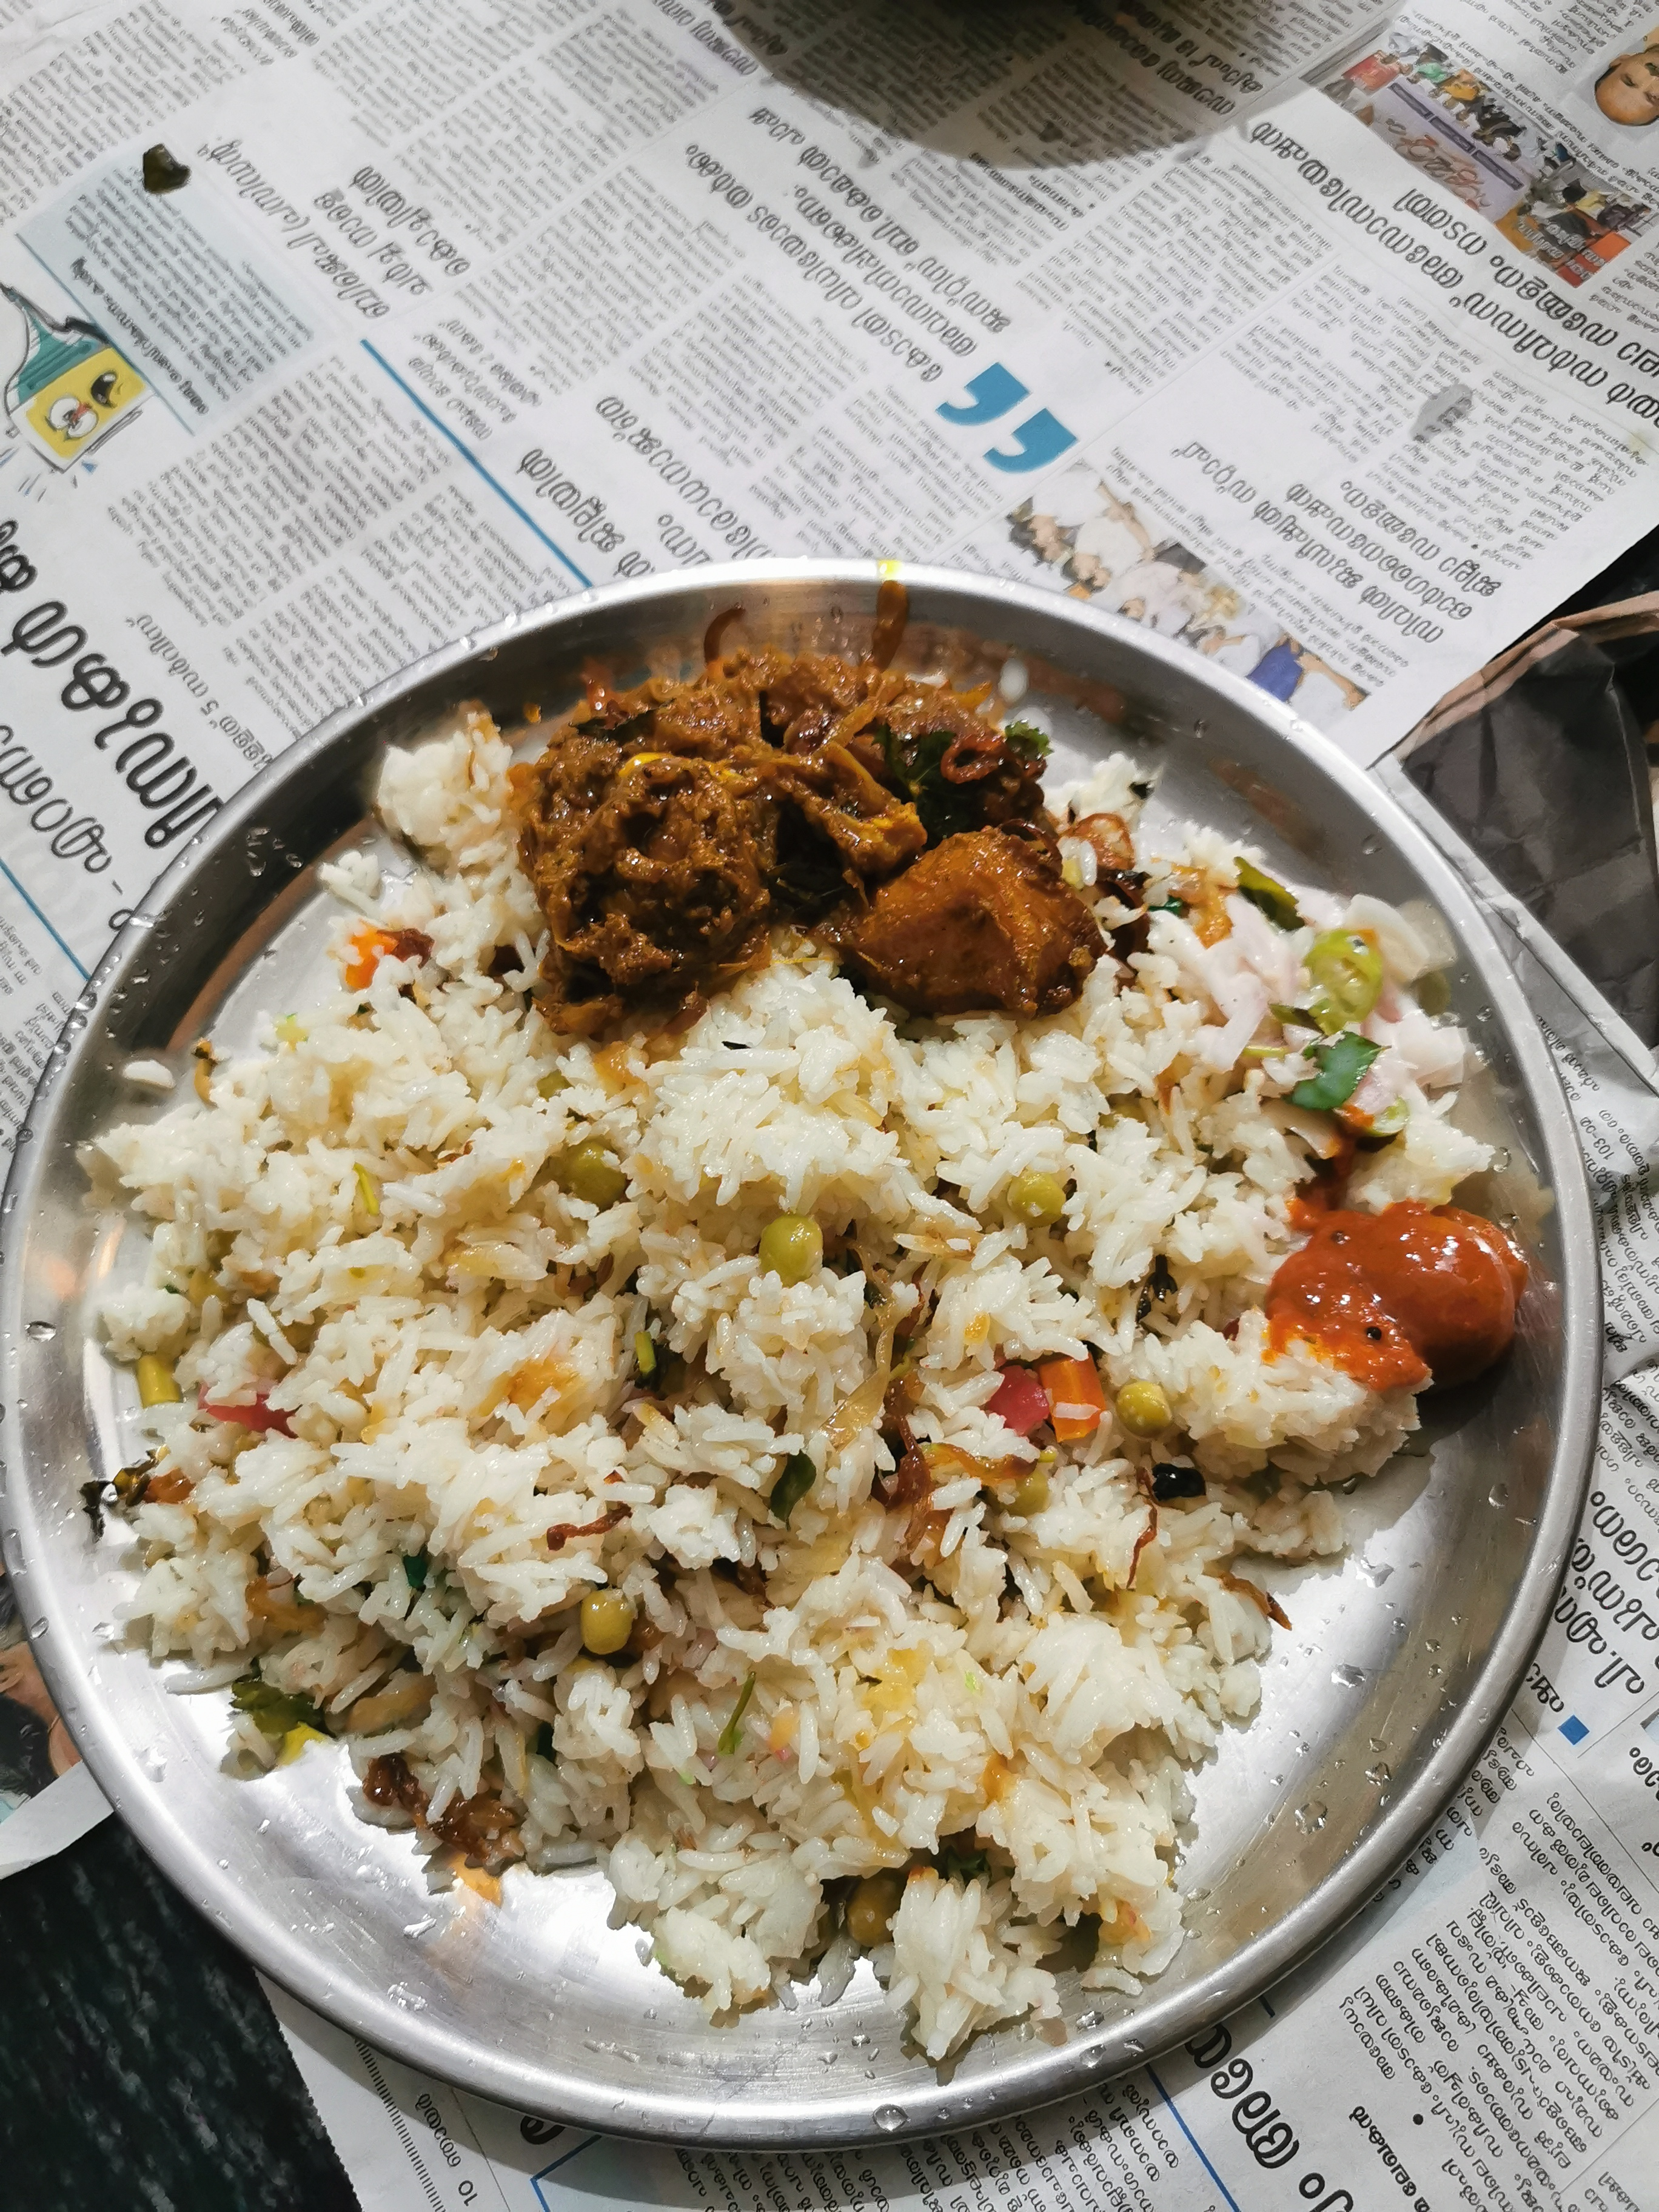food: (64, 575, 1540, 2073)
